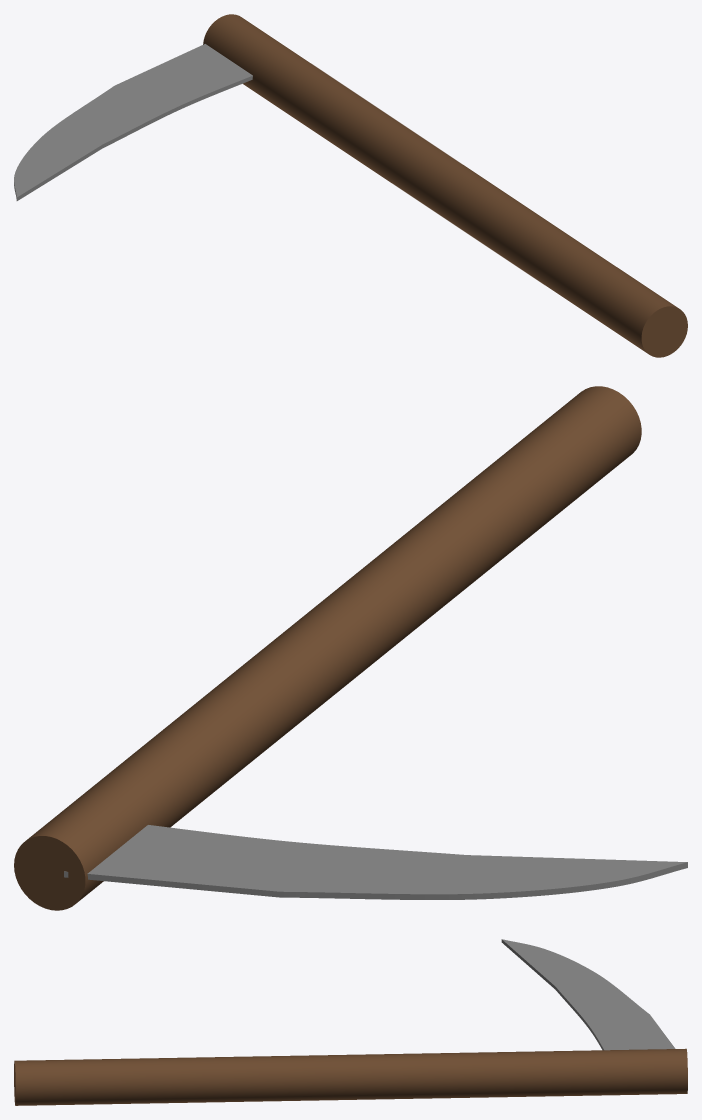
3 views of the same model, one above another, from view 1: azimuth 30°, elevation 25°; view 2: azimuth 150°, elevation 25°; view 3: azimuth 270°, elevation 25° (orthographic). The views are drawn at different scales.
Visible parts, largest first — view 1: wooden_shaft, steel_blade; view 2: wooden_shaft, steel_blade; view 3: wooden_shaft, steel_blade.
Boxes of the visible parts, left/top/right/bottom form: wooden_shaft: left=203, top=14, right=687, bottom=357; steel_blade: left=14, top=44, right=252, bottom=200; wooden_shaft: left=14, top=386, right=641, bottom=910; steel_blade: left=64, top=825, right=687, bottom=899; wooden_shaft: left=14, top=1048, right=687, bottom=1105; steel_blade: left=501, top=939, right=675, bottom=1050.
Size of the model in its own units: 0.2381 by 0.0302 by 0.45.
